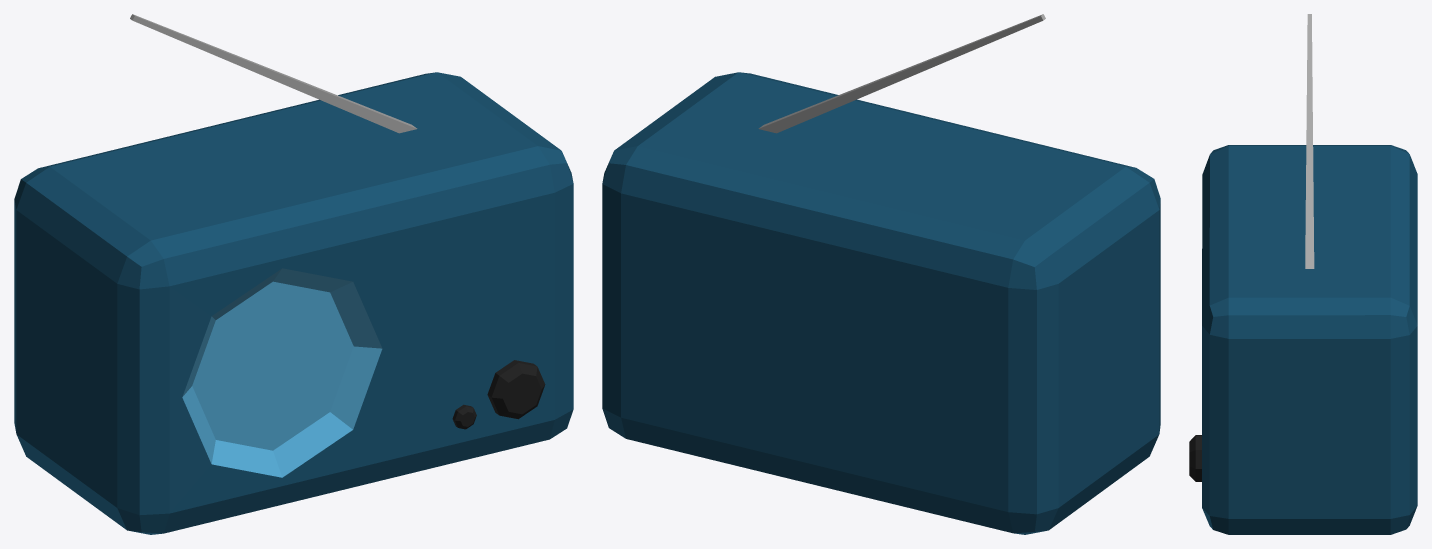
Rendered from Radio.fbx.
The picture shows the model from 3 angles, left to right: view 1: azimuth 30°, elevation 25°; view 2: azimuth 150°, elevation 25°; view 3: azimuth 270°, elevation 25°; orthographic projection. The views are drawn at different scales.
Parts seen in each view (by area): view 1: Radio; view 2: Radio; view 3: Radio.
Boxes of the visible parts, left/top/right/bottom form: Radio: left=14, top=14, right=573, bottom=534; Radio: left=602, top=14, right=1160, bottom=534; Radio: left=1189, top=14, right=1417, bottom=534.
Size of the model in its own units: 0.2808 by 0.2806 by 0.1522.
1 material, 1 textured.
